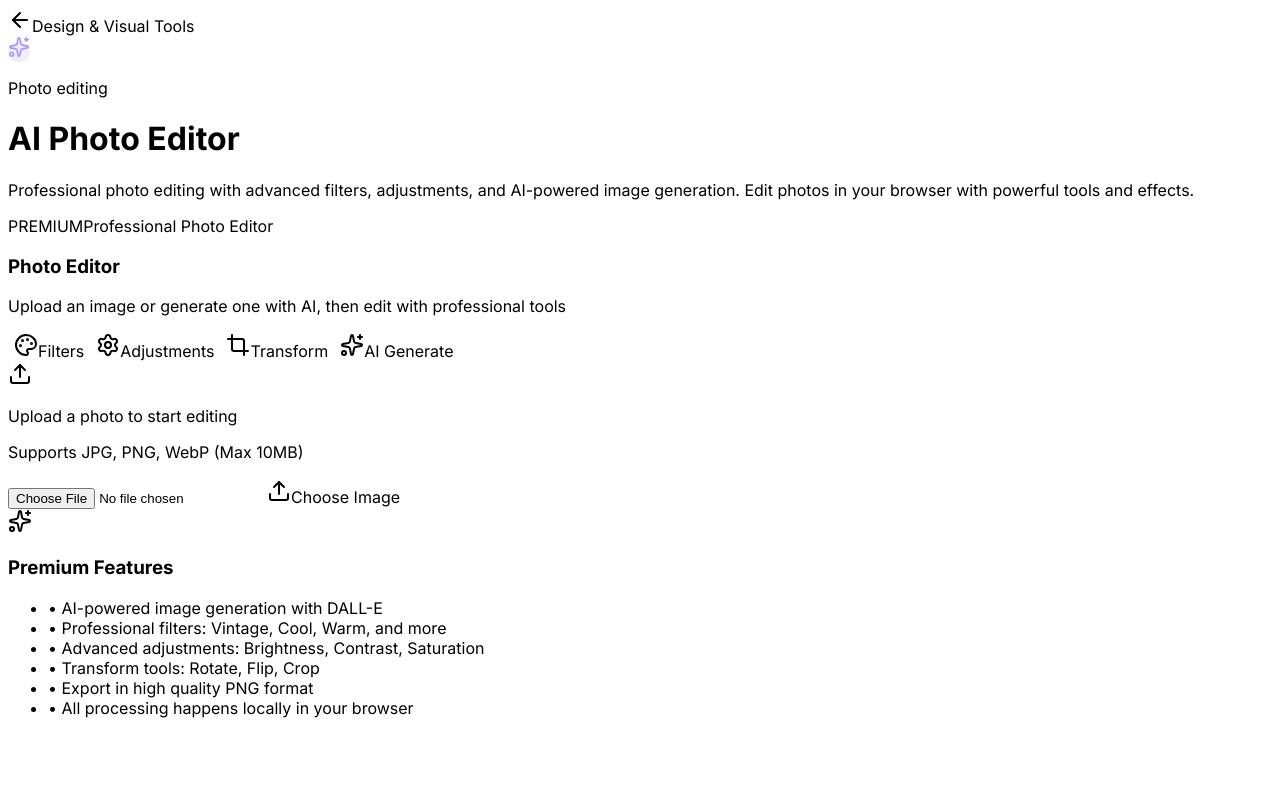
Test: PhotoEditorPage › Tab Navigation › should switch to AI generate tab when clicked
This screenshot has width=1280, height=800.
Click the button "AI Generate".
click(397, 347)  # box [334,332,460,362]
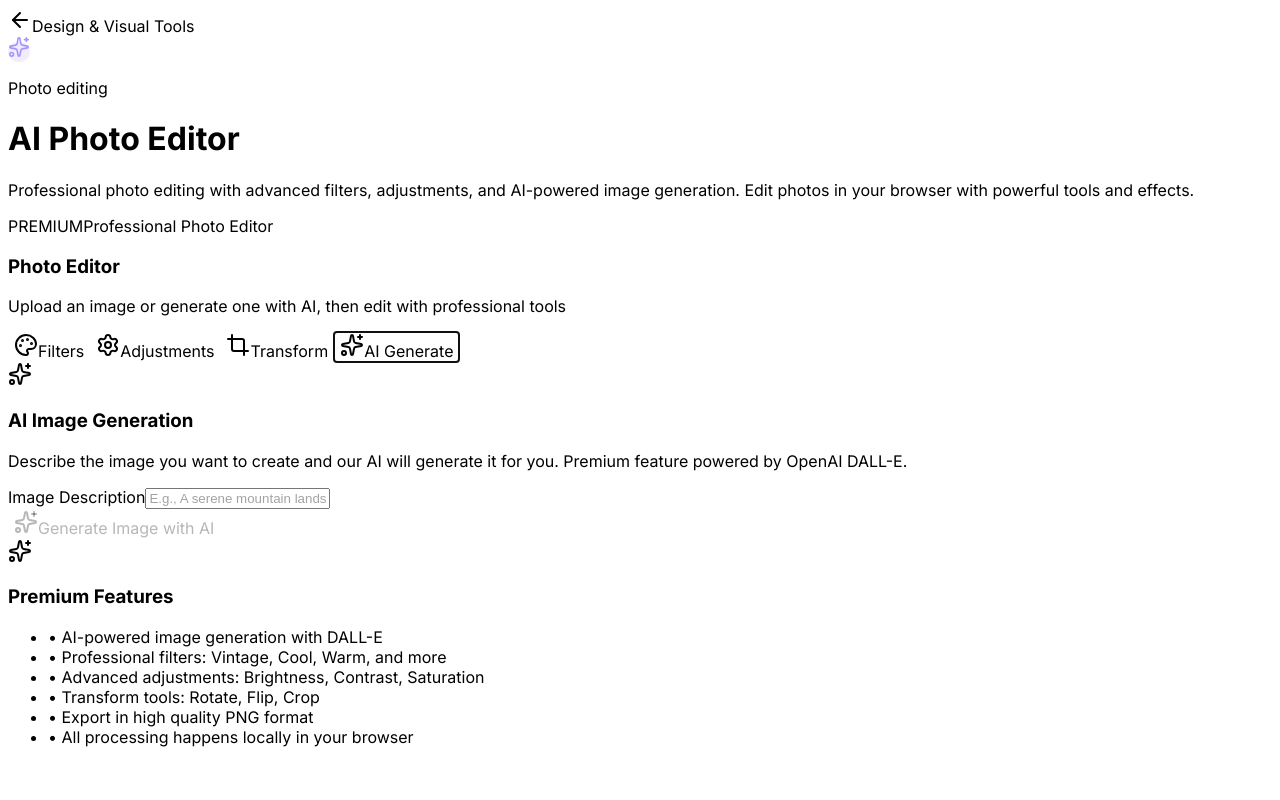
Check: the heading "AI Image Generation" is shown, box [8,409,193,432]
Check: the field with placeholder "A serene mountain landscape" is shown, box [145,488,330,509]
